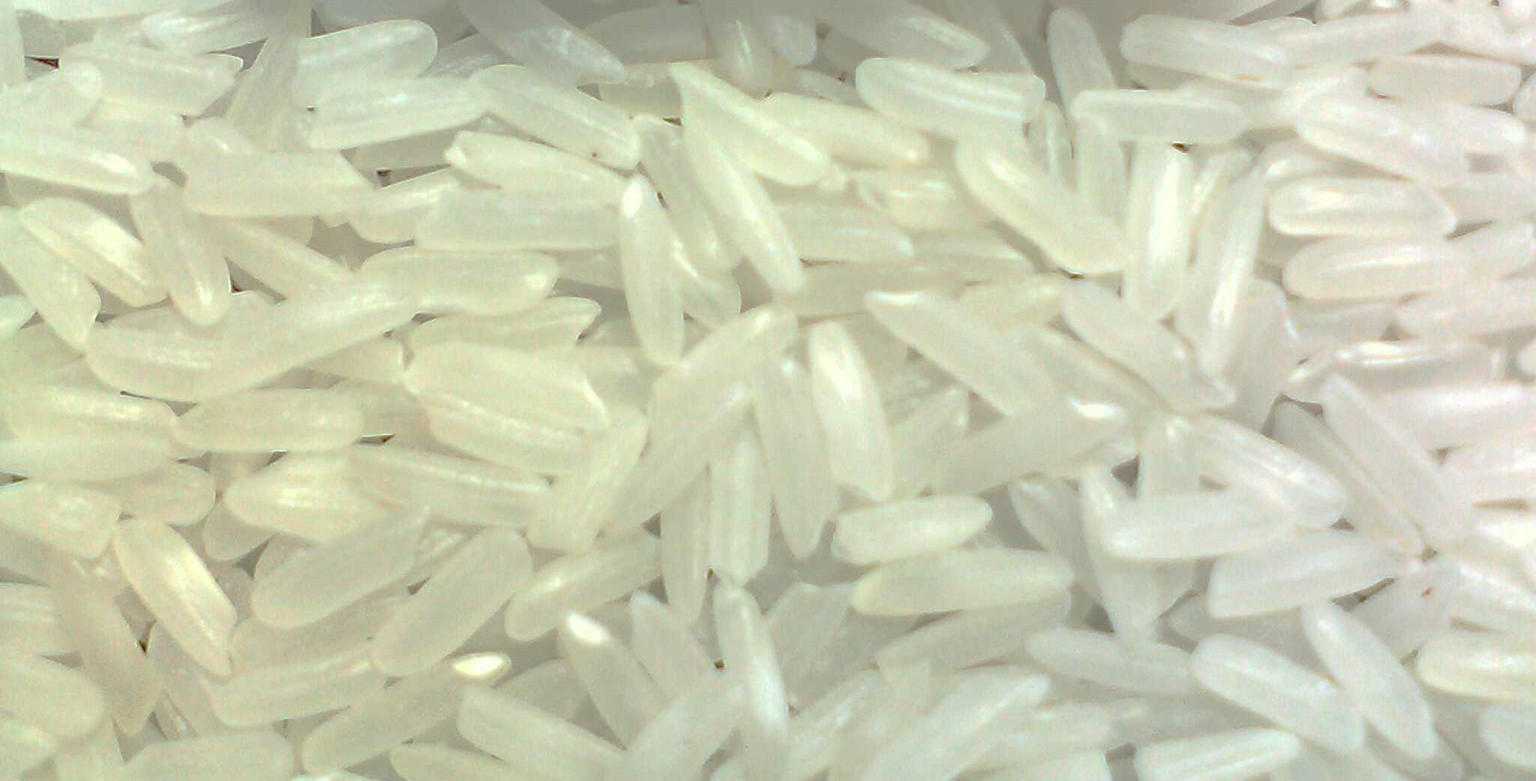WhiteRice: (3, 0, 1536, 781)
